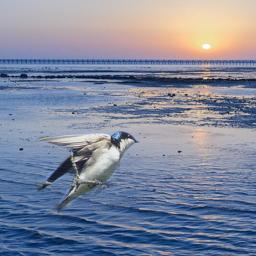Swallow: (29, 129, 140, 214)
